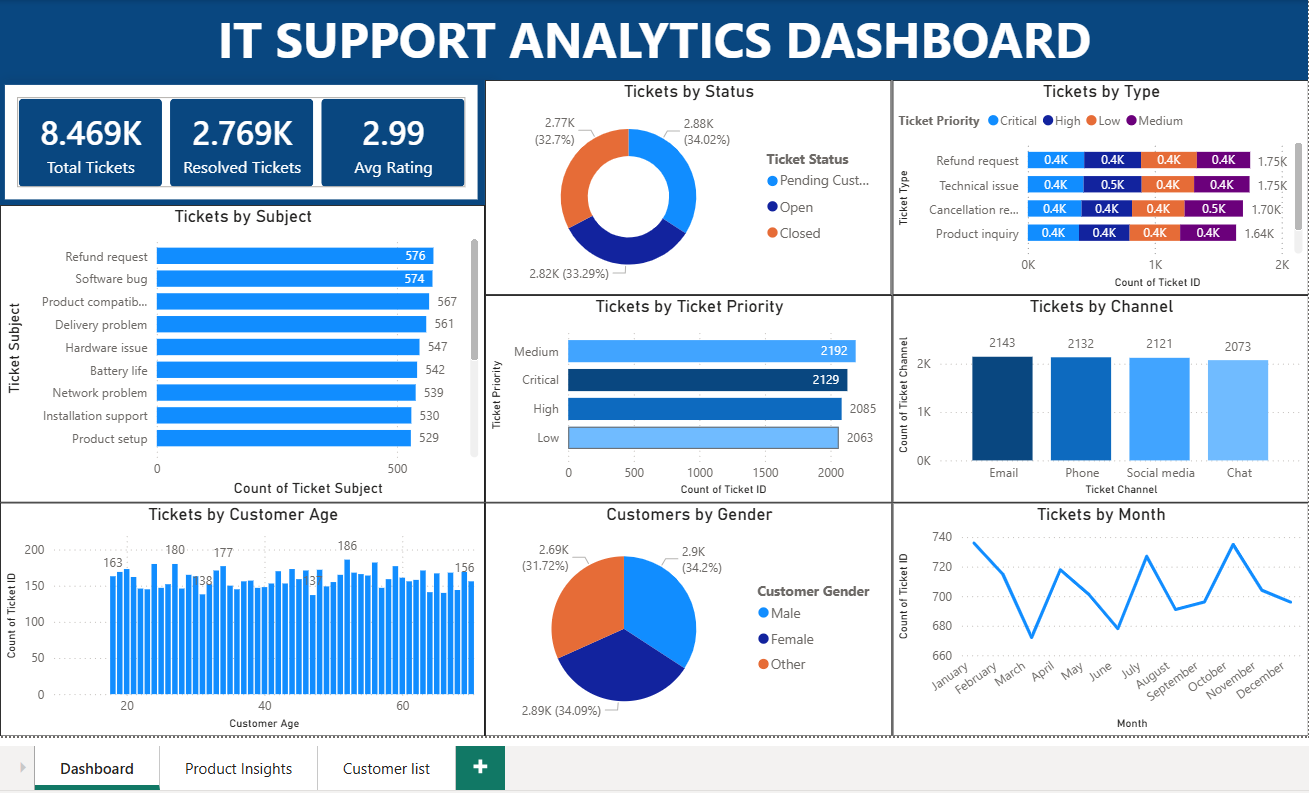

This screenshot's page, from the dashboard's own definition file:
{"tool":"powerbi","page":{"name":"Dashboard","canvas":[1280,720],"ordinal":0},"visuals":[{"type":"barChart","title":"Tickets by Type","fields":{"Category":["tickets.Ticket Type"],"Y":["CountNonNull(tickets.Ticket ID)"],"Series":["tickets.Ticket Priority"]},"box":[872.5,78.8,407.5,210],"z":0},{"type":"textbox","box":[0,0,1280.3,78.3],"z":1000},{"type":"cardVisual","fields":{"Data":["tickets.Total Tickets","tickets.Resolved Tickets","tickets.Avg Rating"]},"box":[0,78.3,474.5,122.3],"z":2000},{"type":"donutChart","title":"Tickets by Status","fields":{"Category":["tickets.Ticket Status"],"Y":["CountNonNull(tickets.Ticket Status)"]},"box":[475,78.8,397.5,210],"z":3000},{"type":"barChart","title":"Tickets by Ticket Priority","fields":{"Category":["tickets.Ticket Priority"],"Y":["CountNonNull(tickets.Ticket ID)"]},"box":[474.5,288.6,398.6,203],"z":4000},{"type":"lineChart","title":"Tickets by Month","fields":{"Category":["tickets.Date of Purchase.Variation.Date Hierarchy.Month","tickets.Date of Purchase.Variation.Date Hierarchy.Day"],"Y":["CountNonNull(tickets.Ticket ID)"]},"box":[873.1,491.6,407.2,228.7],"z":5000},{"type":"columnChart","title":"Tickets by Channel","fields":{"Category":["tickets.Ticket Channel"],"Y":["CountNonNull(tickets.Ticket Channel)"]},"box":[873.1,288.6,407.2,203],"z":6000},{"type":"barChart","title":"Tickets by Subject","fields":{"Category":["tickets.Ticket Subject"],"Y":["CountNonNull(tickets.Ticket Subject)"]},"box":[0,200.5,474.5,291],"z":7000},{"type":"columnChart","title":"Tickets by Customer Age","fields":{"Category":["tickets.Customer Age"],"Y":["CountNonNull(tickets.Ticket ID)"]},"box":[0,491.6,474.5,228.7],"z":7001},{"type":"pieChart","title":"Customers by Gender","fields":{"Category":["tickets.Customer Gender"],"Y":["CountNonNull(tickets.Customer Gender)"]},"box":[474.5,491.6,398.6,228.7],"z":7002}]}

Visuals, with their boxes on the page's 1280x720 design canvas (x1, y1, x2, y2). These are canvas units, not pixel positions in the 1309x793 screenshot, which may show the page scaled, cropped or inside an application window:
"Tickets by Type" barChart: <box>872,79,1280,289</box>
textbox: <box>0,0,1280,78</box>
cardVisual - tickets.Total Tickets x tickets.Resolved Tickets: <box>0,78,474,201</box>
"Tickets by Status" donutChart: <box>475,79,872,289</box>
"Tickets by Ticket Priority" barChart: <box>474,289,873,492</box>
"Tickets by Month" lineChart: <box>873,492,1280,720</box>
"Tickets by Channel" columnChart: <box>873,289,1280,492</box>
"Tickets by Subject" barChart: <box>0,200,474,492</box>
"Tickets by Customer Age" columnChart: <box>0,492,474,720</box>
"Customers by Gender" pieChart: <box>474,492,873,720</box>
